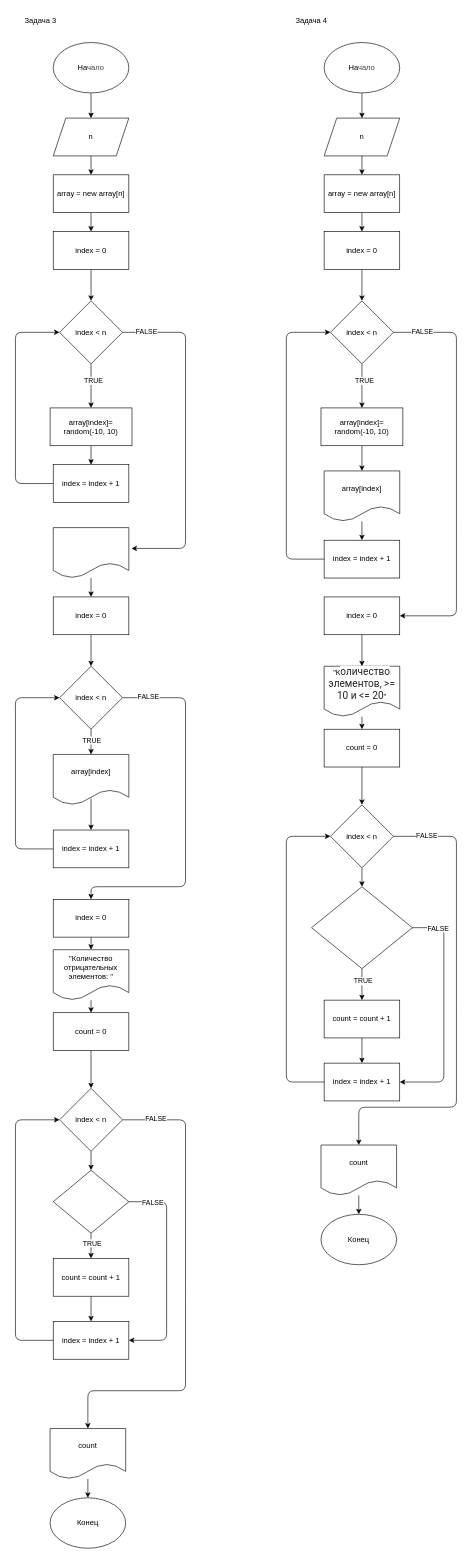
Image size: 473x1559. Some labels were removed from this diagram. The shapes that lost their labels are listed below. From the top down, each one's centre as x and y in pixels, then its label:
the point at 91,552: "Массив: "
the point at 361,927: array[index] >= 10 and array[index] <= 20
the point at 91,1201: array[index] < 0
